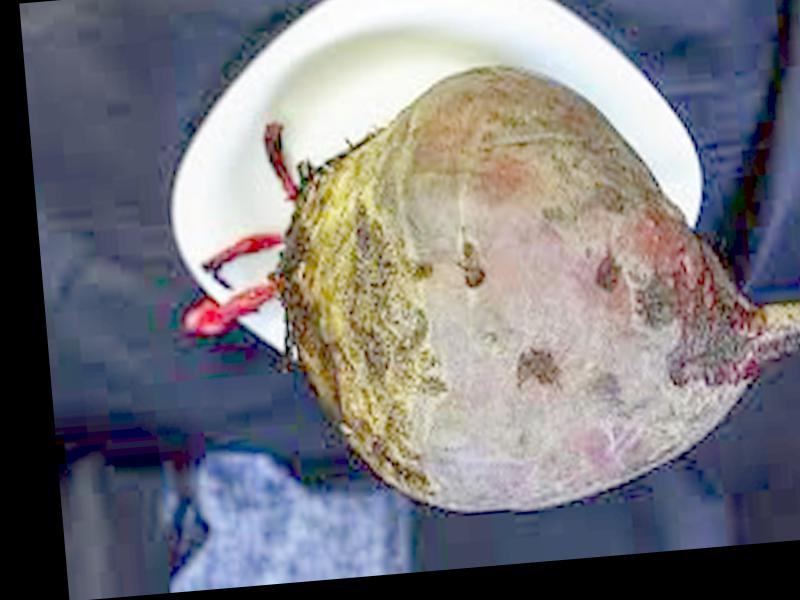Beet: (166, 43, 800, 530)
